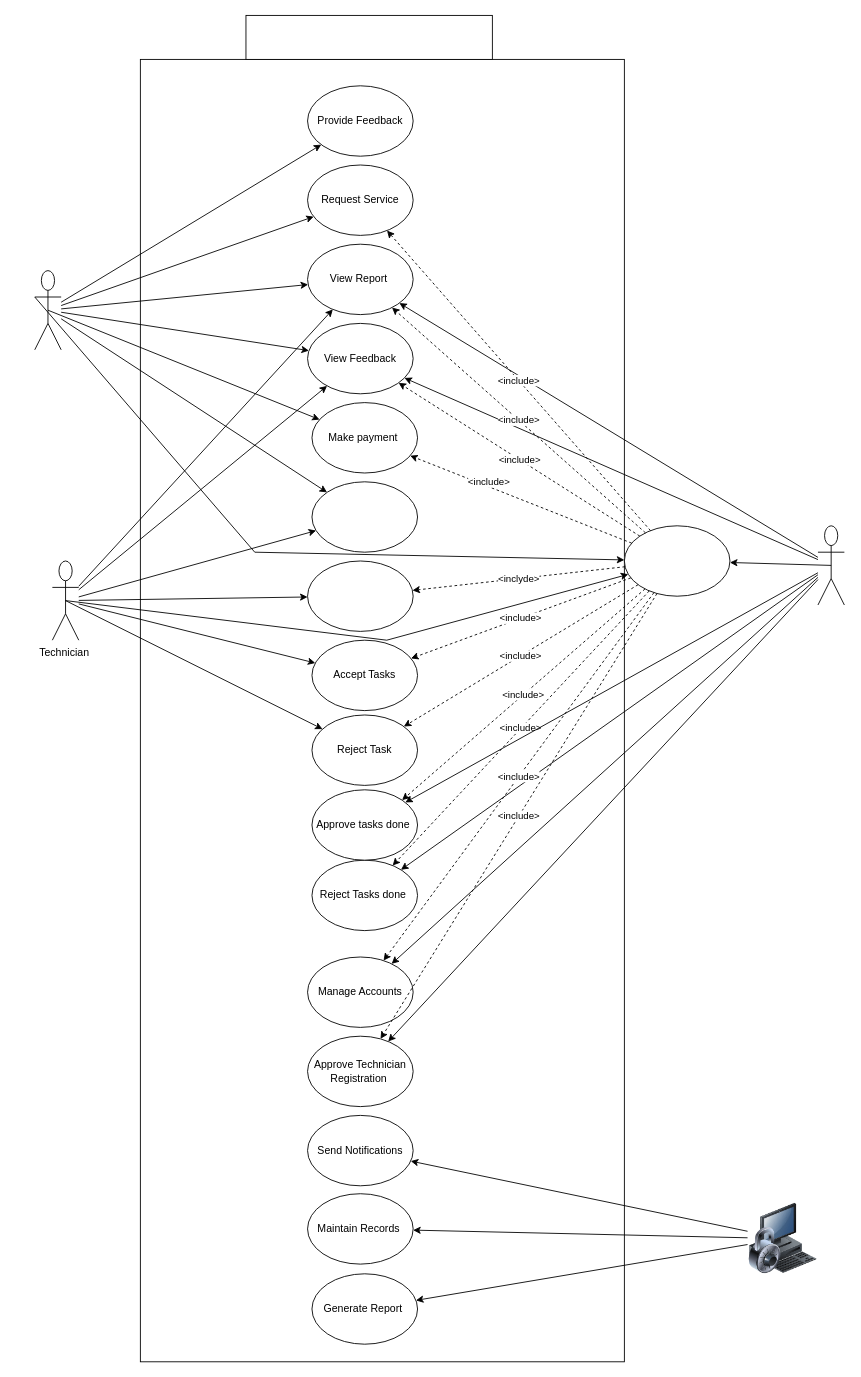
This 861x1377 diagram has some shape labels left out. Each missing label, with the centre of its shape:
Admin: the point at 830,565
Home Maintenance system: the point at 368,37
Home Owner: the point at 47,310
Login: the point at 676,560
Register: the point at 364,516
View Assigned Taskes: the point at 360,595
